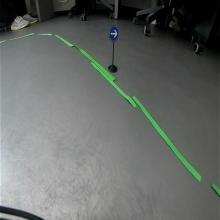right: (108, 24, 120, 42)
